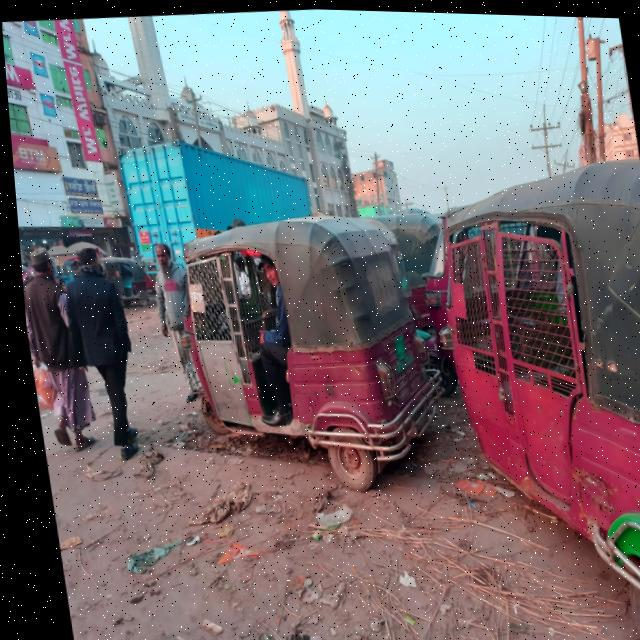cng: (128, 154, 466, 491), (381, 140, 640, 556)
